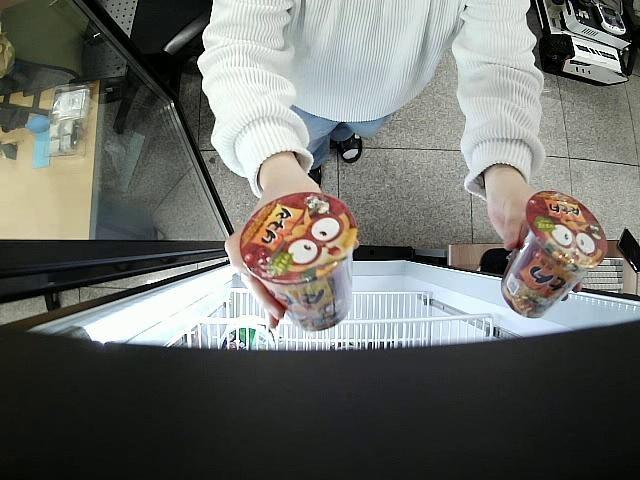06_nuguri_S: (241, 192, 356, 331), (500, 190, 608, 318)
